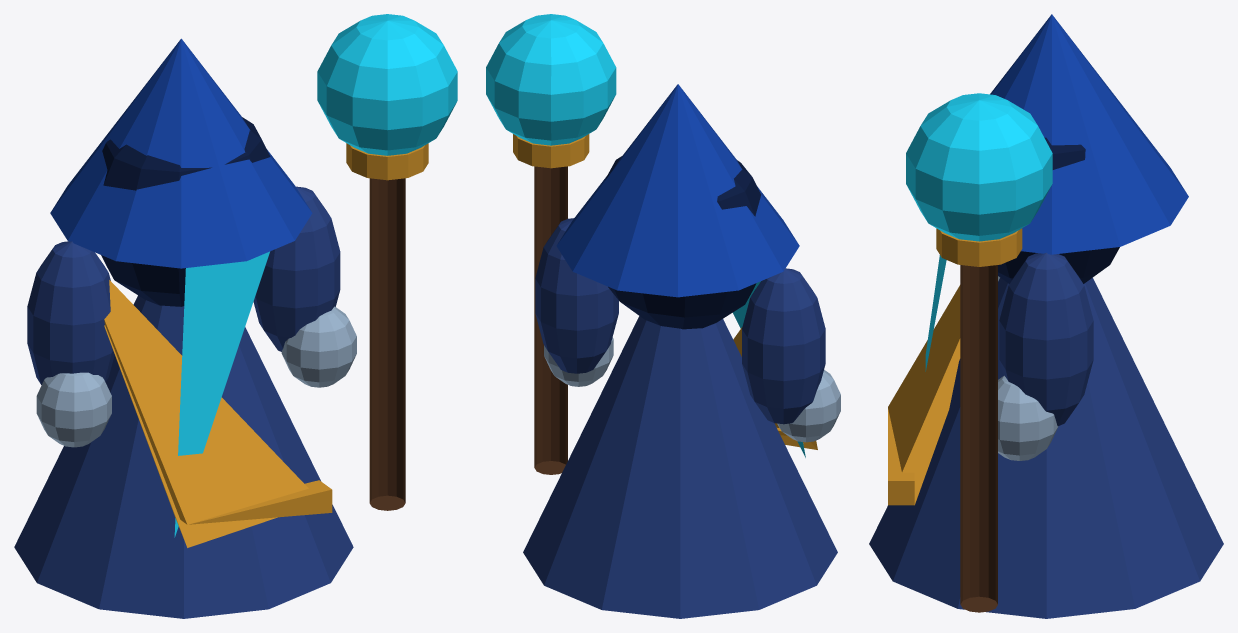
The model's file is Minion_Mago.obj.
3 views of the same model, side by side, from view 1: azimuth 30°, elevation 25°; view 2: azimuth 150°, elevation 25°; view 3: azimuth 270°, elevation 25° (orthographic). The views are drawn at different scales.
Parts seen in each view (by area): view 1: Minion_Mago; view 2: Minion_Mago; view 3: Minion_Mago.
Part boxes in pixels (<box>): Minion_Mago: <box>14,14,457,618</box>; Minion_Mago: <box>486,14,840,618</box>; Minion_Mago: <box>869,14,1223,618</box>.
Bounding box in the file's own units: 1.74 × 2.18 × 1.32.
